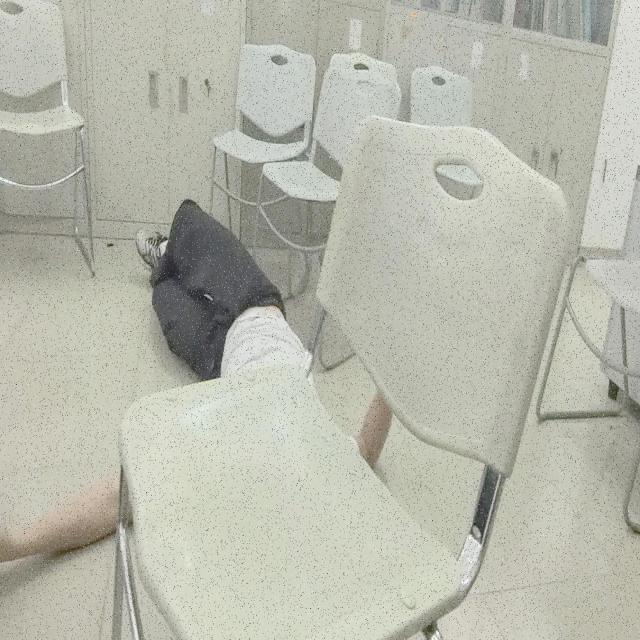fall: (0, 202, 385, 582)
